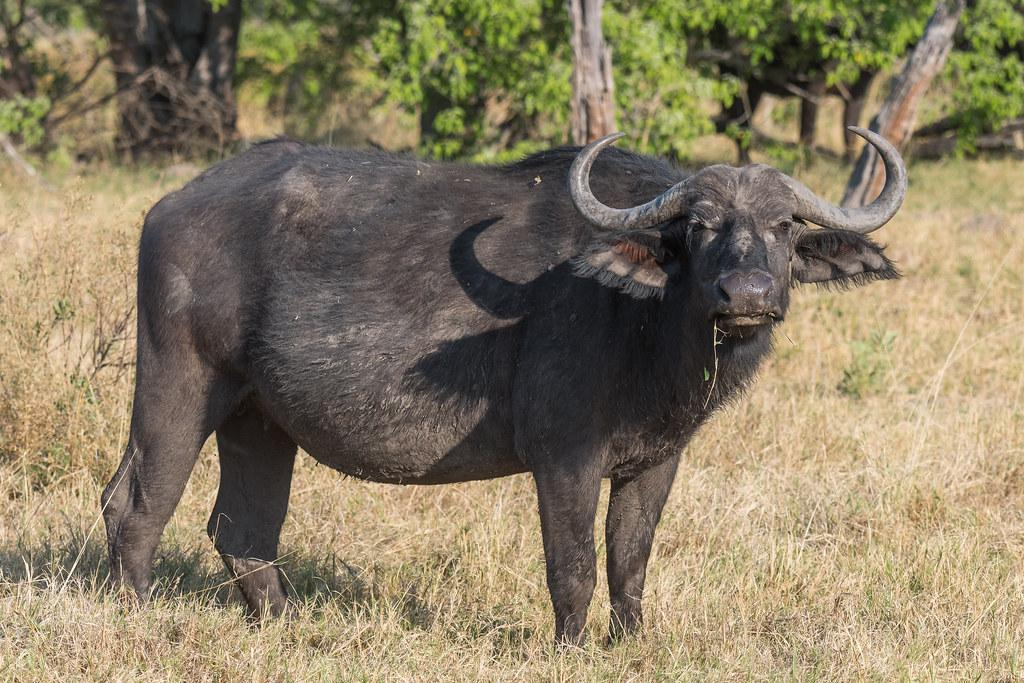Buffalo: (42, 2, 1013, 612)
